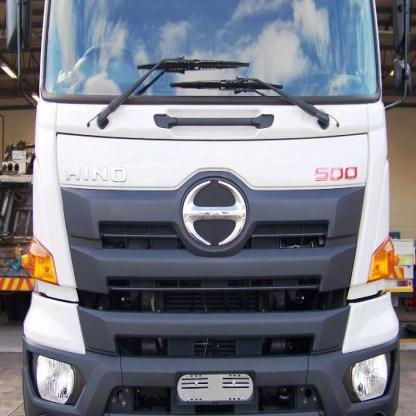dump_truck: (12, 2, 404, 413)
